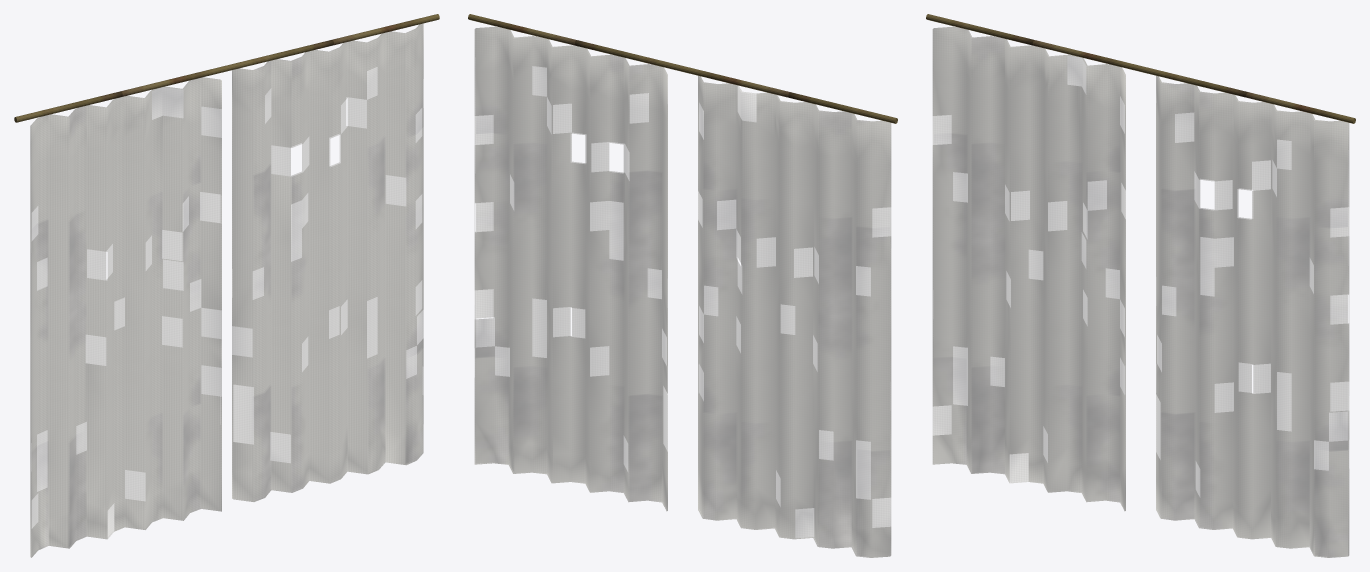
Rendered from CL16_LaceCurtains.glb.
3 renders of one model, left to right at view 1: azimuth 30°, elevation 25°; view 2: azimuth 150°, elevation 25°; view 3: azimuth 330°, elevation 25°, orthographic.
Parts seen in each view (by area): view 1: CL16_LaceCurtains; view 2: CL16_LaceCurtains; view 3: CL16_LaceCurtains.
Part boxes in pixels (left/top/right/bottom): CL16_LaceCurtains: left=14, top=14, right=439, bottom=557; CL16_LaceCurtains: left=468, top=14, right=897, bottom=557; CL16_LaceCurtains: left=926, top=14, right=1355, bottom=557.
Bounding box in the file's own units: 2 × 1.99 × 0.0887.
2 materials, 2 textured.
